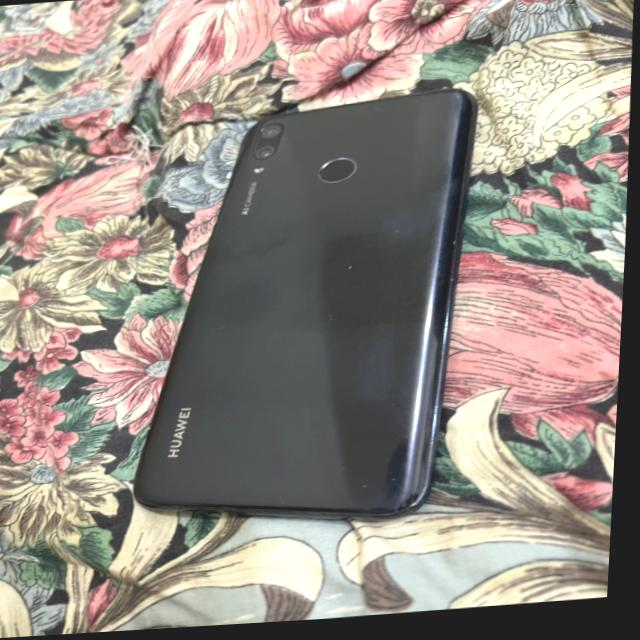Smartphone: (138, 95, 478, 523)
